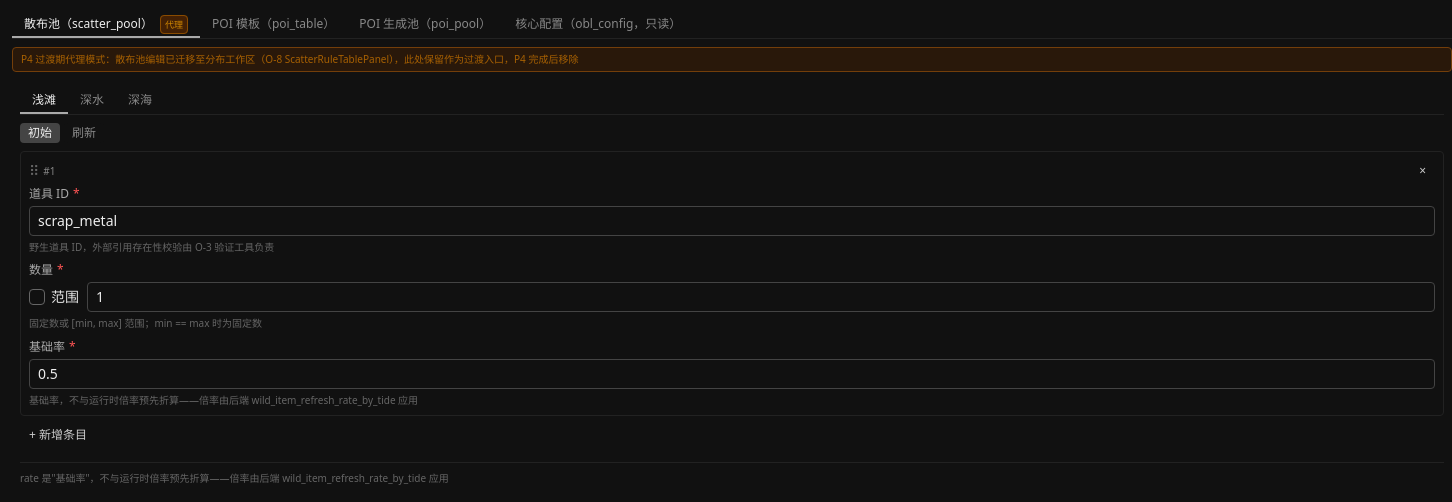
Test case: ConfigPanel › obl_config 未加载时显示提示
Click the button "核心配置（obl_config，只读）" at (598, 25), box [503,12,693,38]
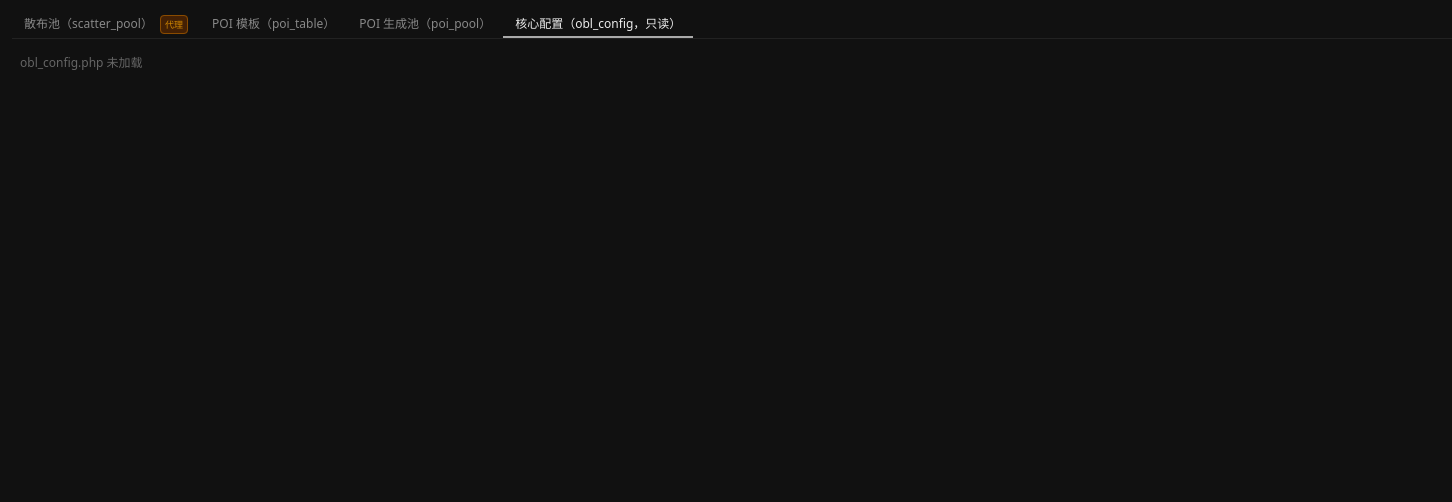
Result: the text "obl_config.php 未加载" is shown at [20,54,143,71]
